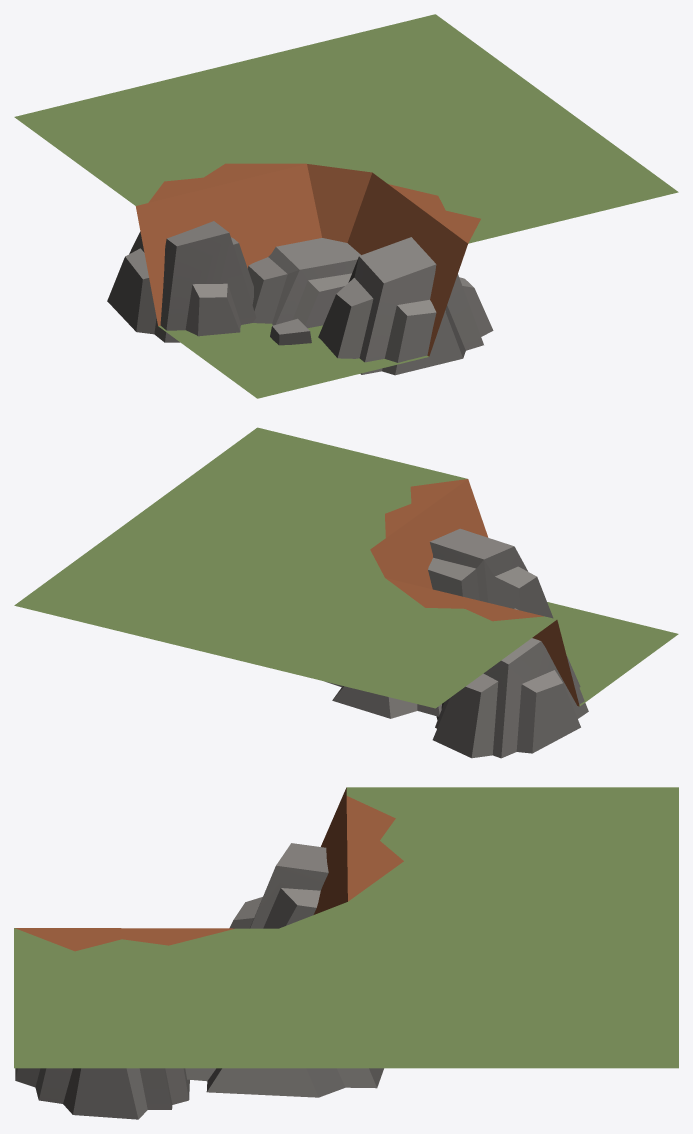
File: SA_Env_HillTile_Corner_02.gltf
3 renders of one model, top to bottom at view 1: azimuth 30°, elevation 25°; view 2: azimuth 150°, elevation 25°; view 3: azimuth 270°, elevation 25°, orthographic. The views are drawn at different scales.
Parts seen in each view (by area): view 1: SA_Env_HillTile_Corner_02; view 2: SA_Env_HillTile_Corner_02; view 3: SA_Env_HillTile_Corner_02.
Boxes of the visible parts, x1=… form: SA_Env_HillTile_Corner_02: x1=14, y1=14, x2=678, y2=398; SA_Env_HillTile_Corner_02: x1=14, y1=427, x2=678, y2=758; SA_Env_HillTile_Corner_02: x1=14, y1=787, x2=678, y2=1119.
Bounding box in the file's own units: 15.42 × 3.88 × 15.
Materials: 1 (1 with a texture image).
